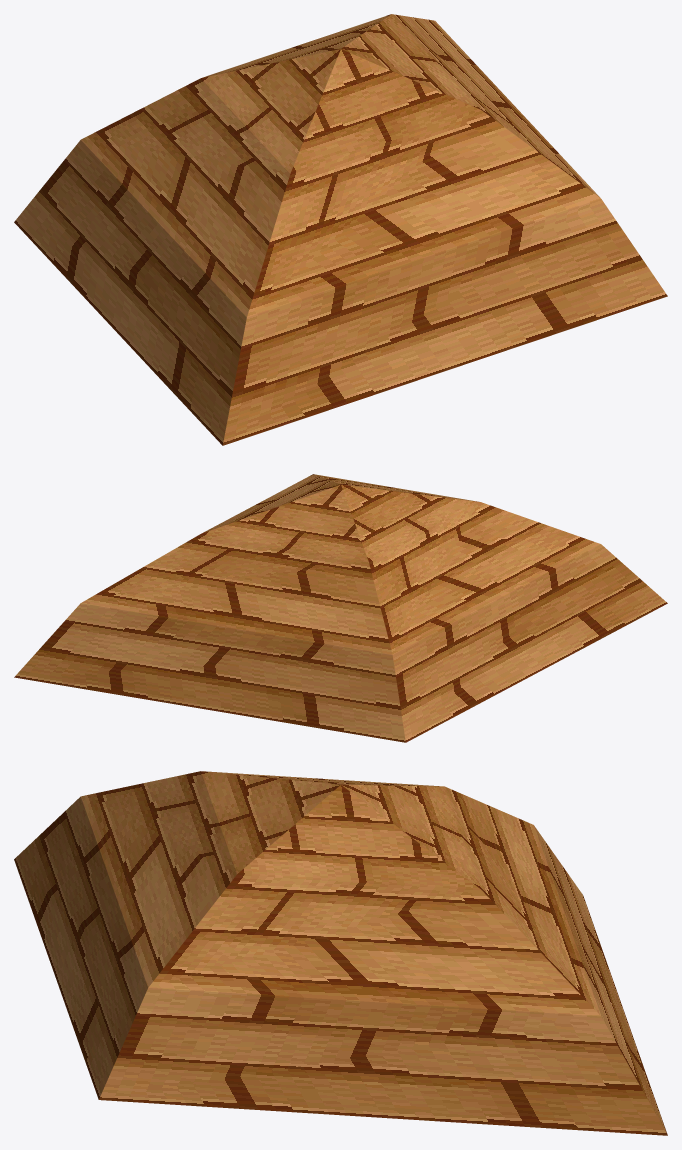
File: telhado_04_mercado.glb
3 renders of one model, top to bottom at view 1: azimuth 30°, elevation 25°; view 2: azimuth 150°, elevation 25°; view 3: azimuth 270°, elevation 25°, orthographic. The views are drawn at different scales.
Visible parts, largest first — view 1: telhado_04_mercado; view 2: telhado_04_mercado; view 3: telhado_04_mercado.
Boxes of the visible parts, <box> form: telhado_04_mercado: <box>14,14,667,445</box>; telhado_04_mercado: <box>14,474,667,742</box>; telhado_04_mercado: <box>14,771,667,1135</box>.
Size of the model in its own units: 4.68 by 1.68 by 4.68.
1 material, 1 textured.
